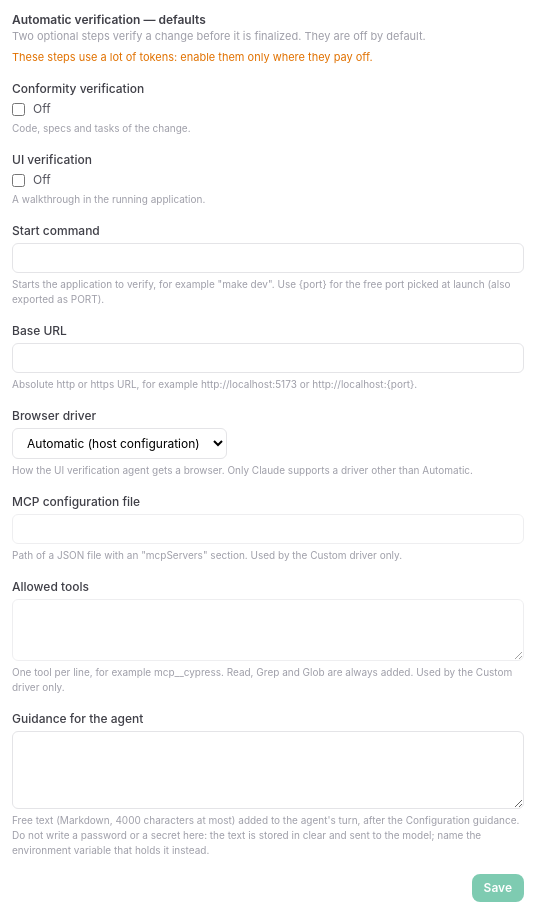
VerificationSettingsForm — global scope › shows the error of a failed save
This screenshot has width=541, height=907.
Step 1. Click the switch labelled "Conformity verification" → [18, 109], box [12,102,25,116]
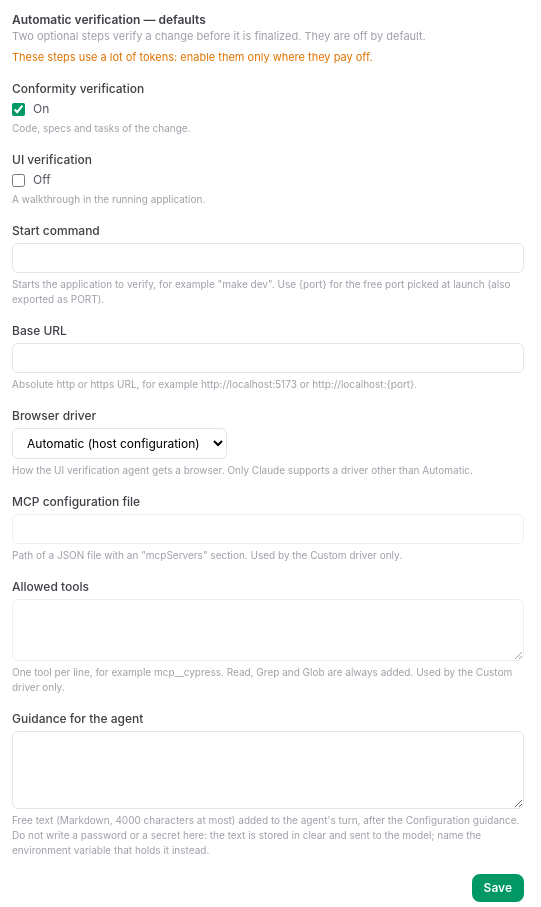
Step 2. Click the button "Save" → [498, 888], box [472,874,524,902]
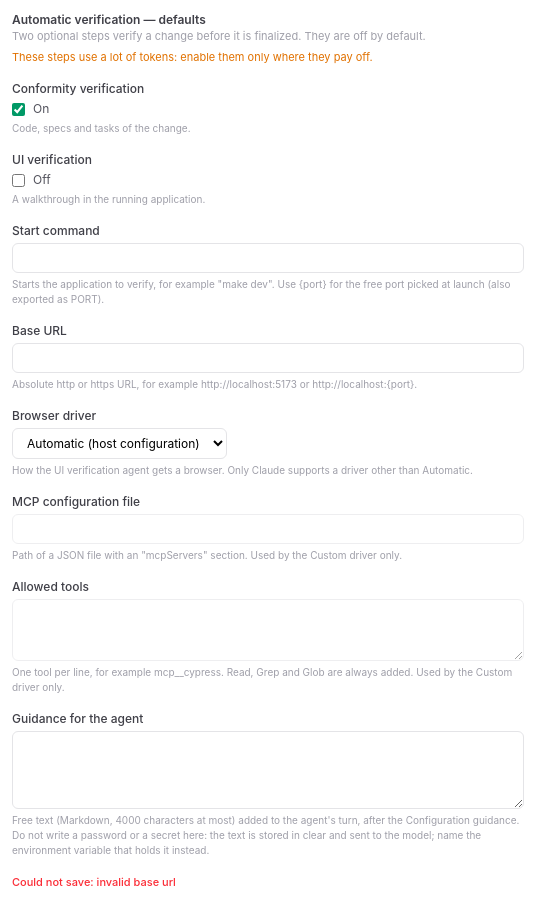
Expected: the message shows "invalid base url", [12,875,176,889]
